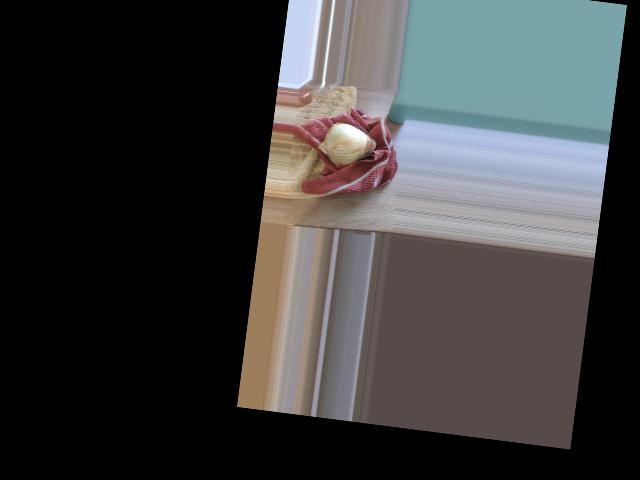onion: (320, 118, 375, 170)
